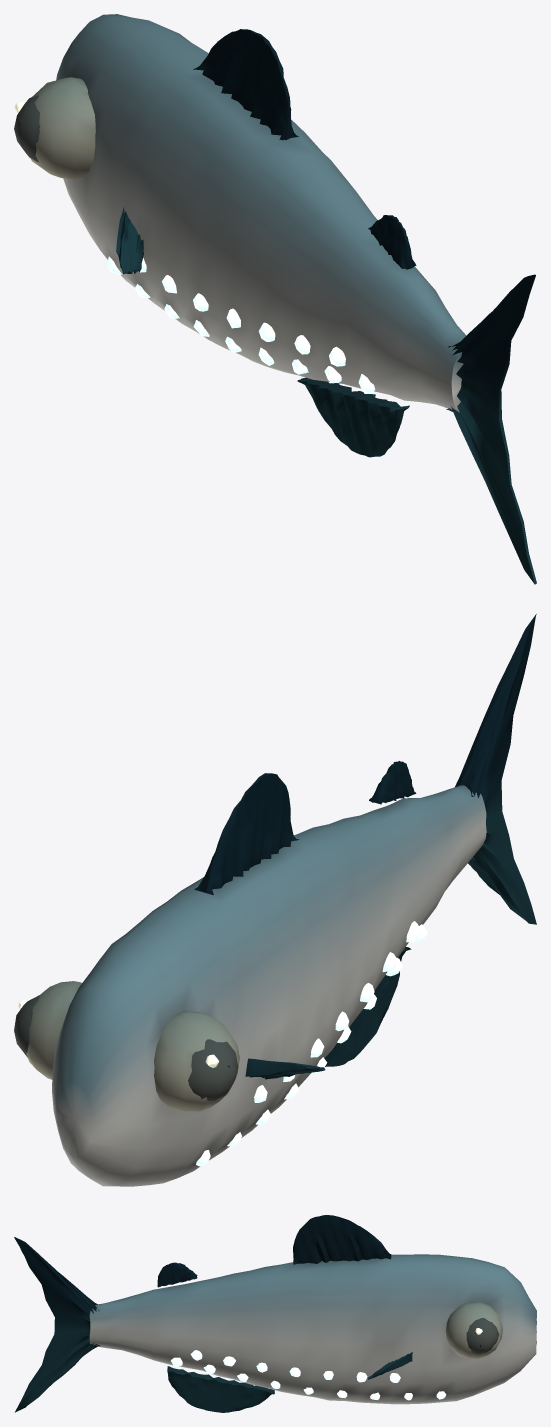
Rendered from lantern.glb.
3 views of the same model, one above another, from view 1: azimuth 30°, elevation 25°; view 2: azimuth 150°, elevation 25°; view 3: azimuth 270°, elevation 25° (orthographic). The views are drawn at different scales.
Parts seen in each view (by area): view 1: lantern; view 2: lantern; view 3: lantern.
Part boxes in pixels (<box>): lantern: <box>14,14,536,584</box>; lantern: <box>14,614,536,1186</box>; lantern: <box>14,1215,536,1412</box>.
Bounding box in the file's own units: 0.1456 × 0.2249 × 0.5392.
